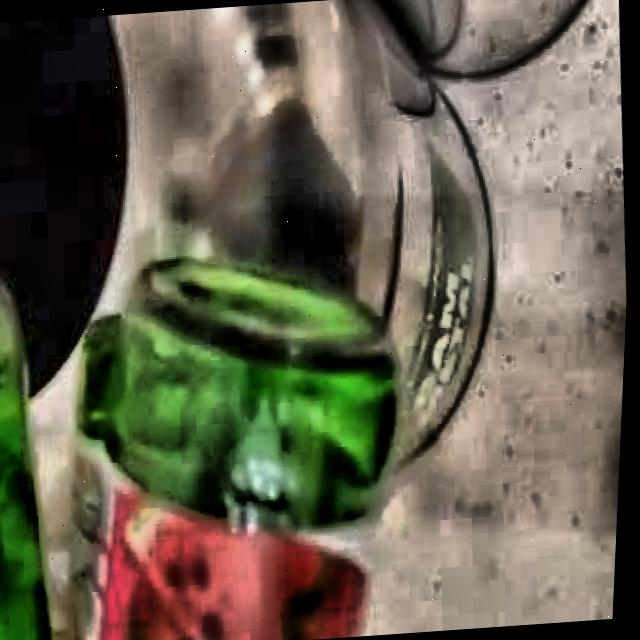glass: (79, 253, 400, 640)
